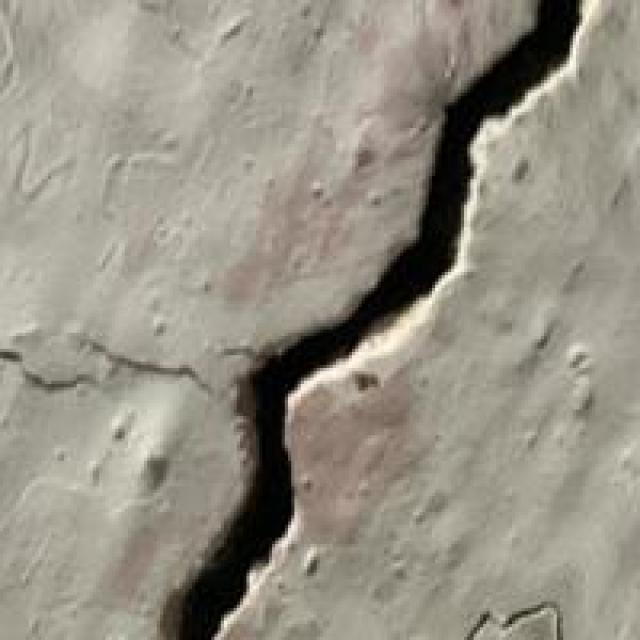Crack: (138, 0, 636, 637)
